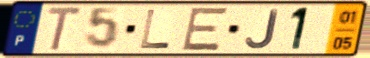1: (286, 6, 312, 53)
5: (85, 6, 122, 53)
E: (179, 6, 232, 53)
J: (244, 8, 281, 51)
L: (138, 8, 173, 50)
T: (46, 5, 85, 53)
